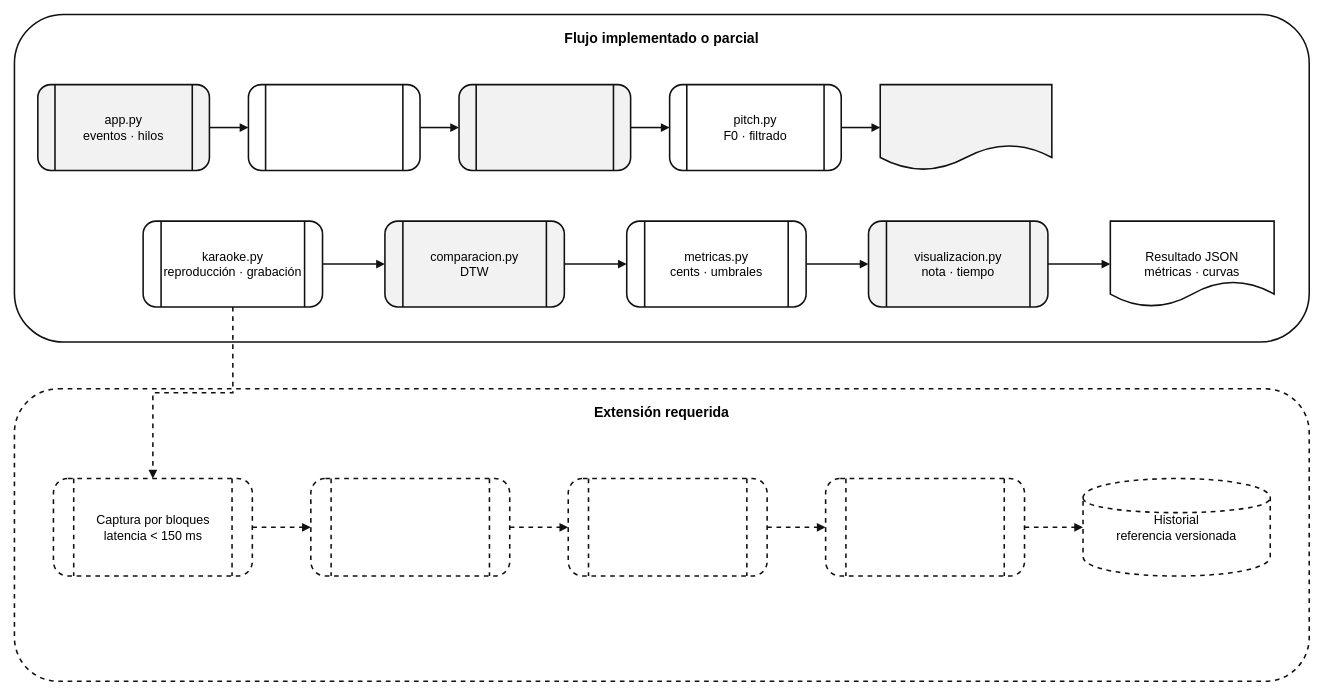
This 1323x695 diagram has some shape labels left out. The centre of each missing label's shape, as x and y in pixels:
"Análisis temporal DTW en cents · segmentos" goes at point 667,526.
"catalogo.py identidad · metadatos" goes at point 333,127.
"guardar.py ref_pitch.csv" goes at point 965,127.
"Nota estabilizada F0 + confianza" goes at point 410,526.
"Retroalimentación hallazgos · validación" goes at point 924,526.
"separacion.py Demucs · instrumental" goes at point 544,127.
